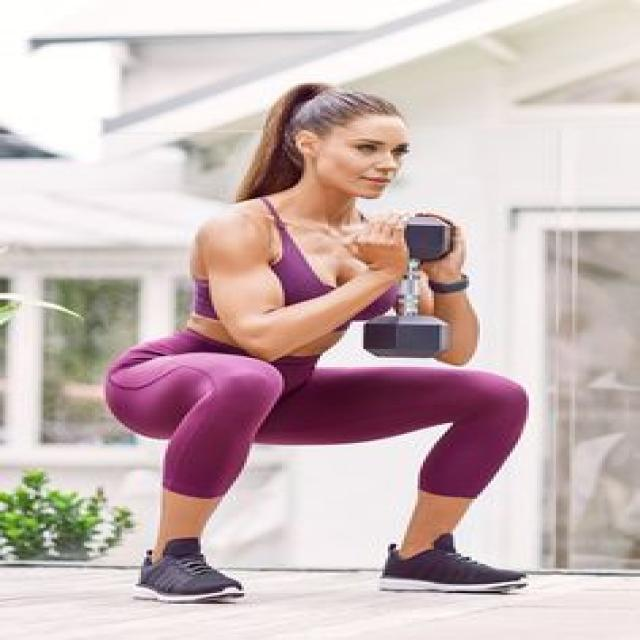squat: (100, 78, 532, 608)
